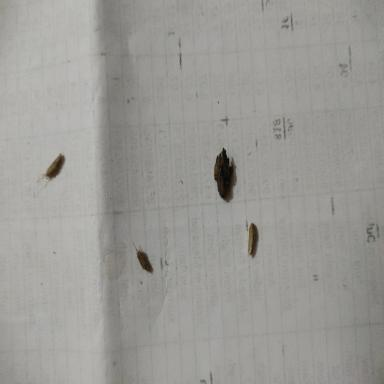pbw: (39, 153, 64, 182), (132, 242, 150, 272), (247, 222, 255, 254)
